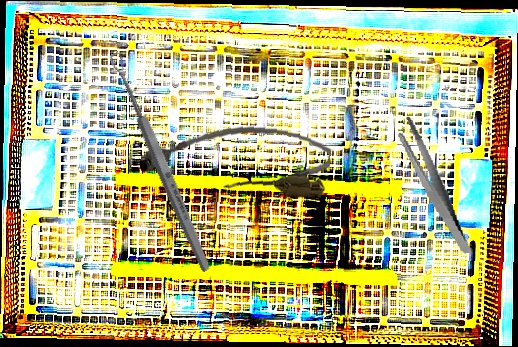Cannula: (138, 115, 333, 201)
Dressing Forceps: (395, 110, 472, 262)
Surgical Spoon: (107, 50, 214, 274)
